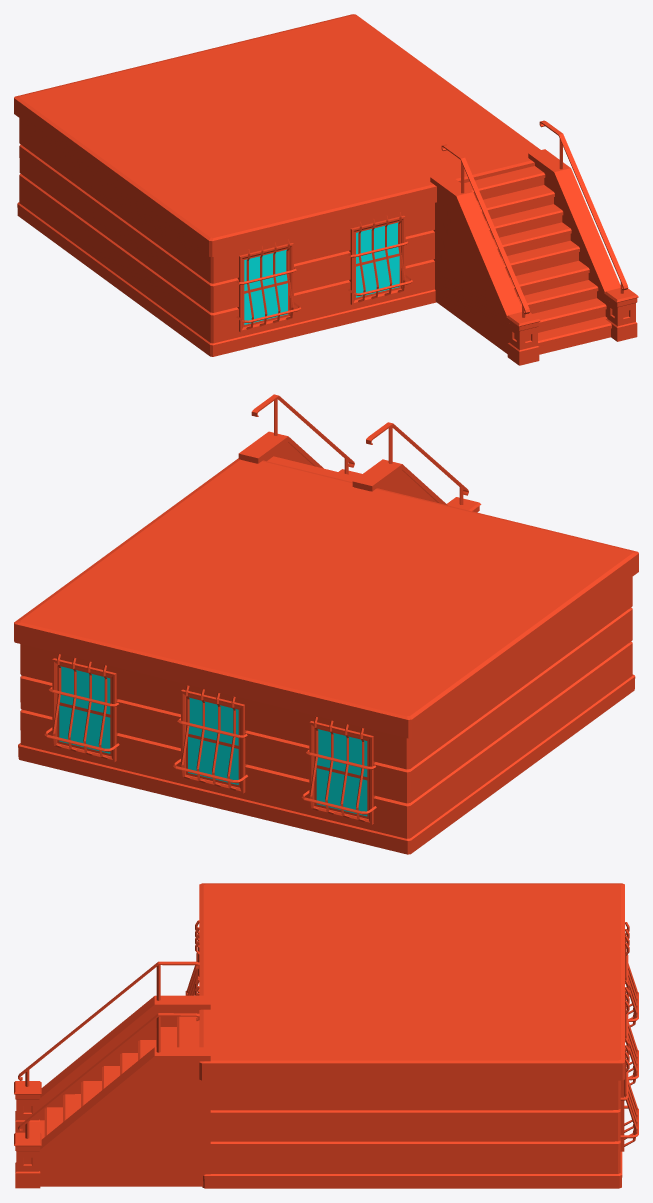
File: SM_Squarehouse_Bottom_C_FB_City.fbx
3 renders of one model, top to bottom at view 1: azimuth 30°, elevation 25°; view 2: azimuth 150°, elevation 25°; view 3: azimuth 270°, elevation 25°, orthographic. The views are drawn at different scales.
Parts seen in each view (by area): view 1: SM_Squarehouse_Bottom_C_FB_City; view 2: SM_Squarehouse_Bottom_C_FB_City; view 3: SM_Squarehouse_Bottom_C_FB_City.
Boxes of the visible parts, <box> form: SM_Squarehouse_Bottom_C_FB_City: <box>14,14,638,365</box>; SM_Squarehouse_Bottom_C_FB_City: <box>14,394,638,854</box>; SM_Squarehouse_Bottom_C_FB_City: <box>14,883,638,1188</box>.
Size of the model in its own units: 6.14 by 2.7 by 8.99.
